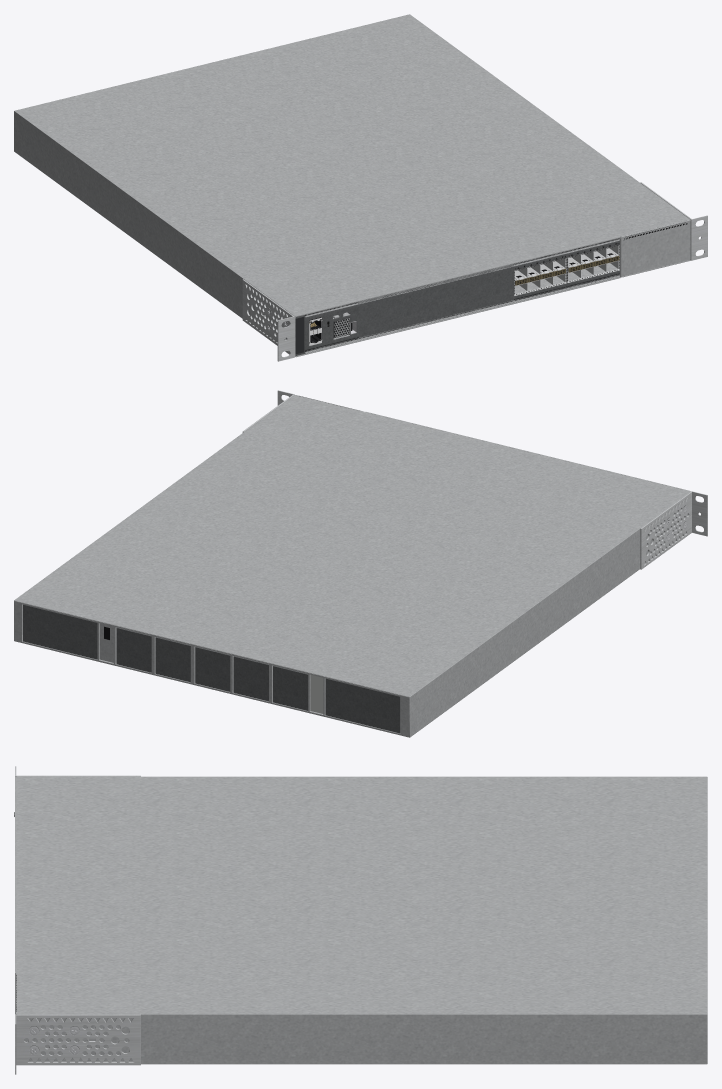
The picture shows the model from 3 angles, top to bottom: view 1: azimuth 30°, elevation 25°; view 2: azimuth 150°, elevation 25°; view 3: azimuth 270°, elevation 25°; orthographic projection. The views are drawn at different scales.
Parts seen in each view (by area): view 1: Shell, Bank_Filler, Rack_Ears, empty:Network Module, Front_Details, Port_Cages, Front_Lip; view 2: Shell, Rack_Ears, empty:PS-0, empty:PS-1, empty:FAN 0, empty:FAN 1, empty:FAN 3, empty:FAN 2, empty:FAN 4, Rear_Details; view 3: Shell, Rack_Ears.
Boxes of the visible parts, box(x1,y1,x2,y2) form: Shell: box(14, 14, 689, 355); Bank_Filler: box(358, 264, 514, 338); Rack_Ears: box(242, 182, 707, 361); empty:Network Module: box(621, 219, 690, 277); Front_Details: box(295, 238, 619, 354); Port_Cages: box(514, 245, 619, 295); Front_Lip: box(295, 236, 621, 357); Shell: box(14, 395, 689, 737); Rack_Ears: box(242, 390, 707, 569); empty:PS-0: box(325, 678, 400, 733); empty:PS-1: box(23, 604, 97, 659); empty:FAN 0: box(273, 666, 308, 710); empty:FAN 1: box(233, 656, 268, 701); empty:FAN 3: box(155, 637, 190, 682); empty:FAN 2: box(195, 647, 230, 691); empty:FAN 4: box(116, 627, 151, 672); Rear_Details: box(100, 623, 323, 713); Shell: box(16, 776, 707, 1064); Rack_Ears: box(15, 766, 140, 1074).
Bounding box in the file's own units: 0.4826 × 0.044 × 0.5484.
27 materials, 6 textured.
